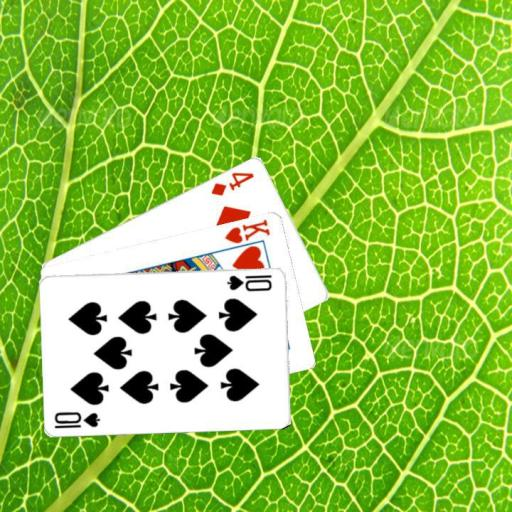10S: (52, 408, 103, 430), (224, 271, 274, 292)
4D: (208, 169, 256, 197)
KH: (222, 216, 272, 245)
